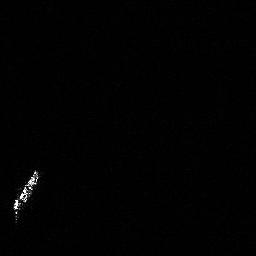ship: (9, 164, 44, 225)
